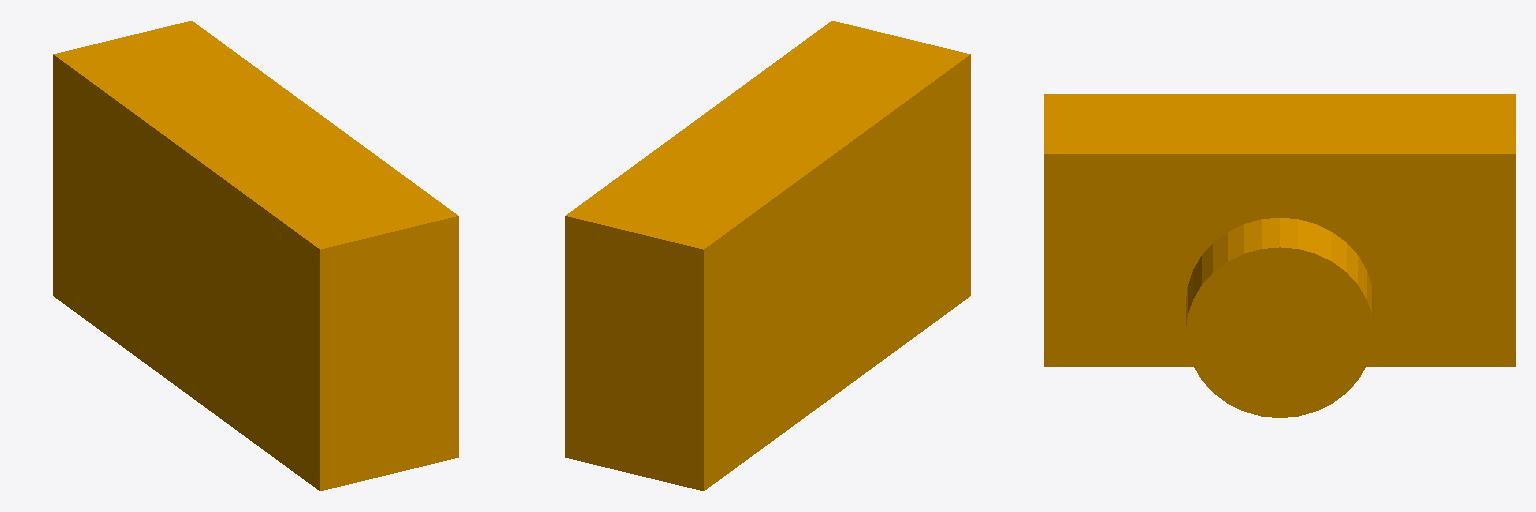
The robot description file, URDF, robot "ur10":
<?xml version="1.0" encoding="utf-8"?>
<!-- =================================================================================== -->
<!-- |    This document was autogenerated by xacro from ur10_robot.urdf.xacro          | -->
<!-- |    EDITING THIS FILE BY HAND IS NOT RECOMMENDED                                 | -->
<!-- =================================================================================== -->
<robot name="ur10">
  <gazebo>
    <plugin filename="libgazebo_ros_control.so" name="gazebo_ros_control">
      <robotNamespace>/ur10</robotNamespace>
      <!--robotSimType>gazebo_ros_control/DefaultRobotHWSim</robotSimType-->
    </plugin>
    <!--
    <plugin name="gazebo_ros_power_monitor_controller" filename="libgazebo_ros_power_monitor.so">
      <alwaysOn>true</alwaysOn>
      <updateRate>1.0</updateRate>
      <timeout>5</timeout>
      <powerStateTopic>power_state</powerStateTopic>
      <powerStateRate>10.0</powerStateRate>
      <fullChargeCapacity>87.78</fullChargeCapacity>
      <dischargeRate>-474</dischargeRate>
      <chargeRate>525</chargeRate>
      <dischargeVoltage>15.52</dischargeVoltage>
      <chargeVoltage>16.41</chargeVoltage>
    </plugin>
-->
  </gazebo>
  <!--
  Author: [author]
  Contributers: [author], [author], [author]
-->
  <!-- measured from model -->
  <link name="base_link">
    <visual>
      <geometry>
        <mesh filename="package://ur10_description/meshes/ur10/visual/Base.dae"/>
      </geometry>
      <material name="LightGrey">
        <color rgba="0.7 0.7 0.7 1.0"/>
      </material>
    </visual>
    <collision>
      <geometry>
        <mesh filename="package://ur10_description/meshes/ur10/collision/base.stl"/>
      </geometry>
    </collision>
    <inertial>
      <mass value="4.0"/>
      <origin rpy="0 0 0" xyz="0.0 0.0 0.0"/>
      <inertia ixx="0.0061063308908" ixy="0.0" ixz="0.0" iyy="0.0061063308908" iyz="0.0" izz="0.01125"/>
    </inertial>
  </link>
  <joint name="shoulder_pan_joint" type="revolute">
    <parent link="base_link"/>
    <child link="shoulder_link"/>
    <origin rpy="0.0 0.0 0.0" xyz="0.0 0.0 0.1273"/>
    <axis xyz="0 0 1"/>
    <limit effort="330.0" lower="-6.2831853" upper="6.2831853" velocity="2.16"/>
    <dynamics damping="0.0" friction="0.0"/>
  </joint>
  <link name="shoulder_link">
    <visual>
      <geometry>
        <mesh filename="package://ur10_description/meshes/ur10/visual/Shoulder.dae"/>
      </geometry>
      <material name="LightGrey">
        <color rgba="0.7 0.7 0.7 1.0"/>
      </material>
    </visual>
    <collision>
      <geometry>
        <mesh filename="package://ur10_description/meshes/ur10/collision/shoulder.stl"/>
      </geometry>
    </collision>
    <inertial>
      <mass value="7.778"/>
      <origin rpy="0 0 0" xyz="0.0 0.0 0.0"/>
      <inertia ixx="0.0314743125769" ixy="0.0" ixz="0.0" iyy="0.0314743125769" iyz="0.0" izz="0.021875625"/>
    </inertial>
  </link>
  <joint name="shoulder_lift_joint" type="revolute">
    <parent link="shoulder_link"/>
    <child link="upper_arm_link"/>
    <origin rpy="0.0 1.570796325 0.0" xyz="0.0 0.220941 0.0"/>
    <axis xyz="0 1 0"/>
    <limit effort="330.0" lower="-6.2831853" upper="6.2831853" velocity="2.16"/>
    <dynamics damping="0.0" friction="0.0"/>
  </joint>
  <link name="upper_arm_link">
    <visual>
      <geometry>
        <mesh filename="package://ur10_description/meshes/ur10/visual/UpperArm.dae"/>
      </geometry>
      <material name="LightGrey">
        <color rgba="0.7 0.7 0.7 1.0"/>
      </material>
    </visual>
    <collision>
      <geometry>
        <mesh filename="package://ur10_description/meshes/ur10/collision/upper_arm.stl"/>
      </geometry>
    </collision>
    <inertial>
      <mass value="12.93"/>
      <origin rpy="0 0 0" xyz="0.0 0.0 0.306"/>
      <inertia ixx="0.421753803798" ixy="0.0" ixz="0.0" iyy="0.421753803798" iyz="0.0" izz="0.036365625"/>
    </inertial>
  </link>
  <joint name="elbow_joint" type="revolute">
    <parent link="upper_arm_link"/>
    <child link="forearm_link"/>
    <origin rpy="0.0 0.0 0.0" xyz="0.0 -0.1719 0.612"/>
    <axis xyz="0 1 0"/>
    <limit effort="150.0" lower="-6.2831853" upper="6.2831853" velocity="3.15"/>
    <dynamics damping="0.0" friction="0.0"/>
  </joint>
  <link name="forearm_link">
    <visual>
      <geometry>
        <mesh filename="package://ur10_description/meshes/ur10/visual/Forearm.dae"/>
      </geometry>
      <material name="LightGrey">
        <color rgba="0.7 0.7 0.7 1.0"/>
      </material>
    </visual>
    <collision>
      <geometry>
        <mesh filename="package://ur10_description/meshes/ur10/collision/forearm.stl"/>
      </geometry>
    </collision>
    <inertial>
      <mass value="3.87"/>
      <origin rpy="0 0 0" xyz="0.0 0.0 0.28615"/>
      <inertia ixx="0.111069694097" ixy="0.0" ixz="0.0" iyy="0.111069694097" iyz="0.0" izz="0.010884375"/>
    </inertial>
  </link>
  <joint name="wrist_1_joint" type="revolute">
    <parent link="forearm_link"/>
    <child link="wrist_1_link"/>
    <origin rpy="0.0 1.570796325 0.0" xyz="0.0 0.0 0.5723"/>
    <axis xyz="0 1 0"/>
    <limit effort="54.0" lower="-6.2831853" upper="6.2831853" velocity="3.2"/>
    <dynamics damping="0.0" friction="0.0"/>
  </joint>
  <link name="wrist_1_link">
    <visual>
      <geometry>
        <mesh filename="package://ur10_description/meshes/ur10/visual/Wrist1.dae"/>
      </geometry>
      <material name="LightGrey">
        <color rgba="0.7 0.7 0.7 1.0"/>
      </material>
    </visual>
    <collision>
      <geometry>
        <mesh filename="package://ur10_description/meshes/ur10/collision/wrist_1.stl"/>
      </geometry>
    </collision>
    <inertial>
      <mass value="1.96"/>
      <origin rpy="0 0 0" xyz="0.0 0.0 0.0"/>
      <inertia ixx="0.0051082479567" ixy="0.0" ixz="0.0" iyy="0.0051082479567" iyz="0.0" izz="0.0055125"/>
    </inertial>
  </link>
  <joint name="wrist_2_joint" type="revolute">
    <parent link="wrist_1_link"/>
    <child link="wrist_2_link"/>
    <origin rpy="0.0 0.0 0.0" xyz="0.0 0.1149 0.0"/>
    <axis xyz="0 0 1"/>
    <limit effort="54.0" lower="-6.2831853" upper="6.2831853" velocity="3.2"/>
    <dynamics damping="0.0" friction="0.0"/>
  </joint>
  <link name="wrist_2_link">
    <visual>
      <geometry>
        <mesh filename="package://ur10_description/meshes/ur10/visual/Wrist2.dae"/>
      </geometry>
      <material name="LightGrey">
        <color rgba="0.7 0.7 0.7 1.0"/>
      </material>
    </visual>
    <collision>
      <geometry>
        <mesh filename="package://ur10_description/meshes/ur10/collision/wrist_2.stl"/>
      </geometry>
    </collision>
    <inertial>
      <mass value="1.96"/>
      <origin rpy="0 0 0" xyz="0.0 0.0 0.0"/>
      <inertia ixx="0.0051082479567" ixy="0.0" ixz="0.0" iyy="0.0051082479567" iyz="0.0" izz="0.0055125"/>
    </inertial>
  </link>
  <joint name="wrist_3_joint" type="revolute">
    <parent link="wrist_2_link"/>
    <child link="wrist_3_link"/>
    <origin rpy="0.0 0.0 0.0" xyz="0.0 0.0 0.1157"/>
    <axis xyz="0 1 0"/>
    <limit effort="54.0" lower="-6.2831853" upper="6.2831853" velocity="3.2"/>
    <dynamics damping="0.0" friction="0.0"/>
  </joint>
  <link name="wrist_3_link">
    <visual>
      <geometry>
        <mesh filename="package://ur10_description/meshes/ur10/visual/Wrist3.dae"/>
      </geometry>
      <material name="LightGrey">
        <color rgba="0.7 0.7 0.7 1.0"/>
      </material>
    </visual>
    <collision>
      <geometry>
        <mesh filename="package://ur10_description/meshes/ur10/collision/wrist_3.stl"/>
      </geometry>
    </collision>
    <inertial>
      <mass value="0.202"/>
      <origin rpy="0 0 0" xyz="0.0 0.0 0.0"/>
      <inertia ixx="0.000526462289415" ixy="0.0" ixz="0.0" iyy="0.000526462289415" iyz="0.0" izz="0.000568125"/>
    </inertial>
  </link>
  <joint name="ee_fixed_joint" type="fixed">
    <parent link="wrist_3_link"/>
    <child link="ee_link"/>
    <origin rpy="0.0 0.0 1.570796325" xyz="0.0 0.0922 0.0"/>
  </joint>

  <!-- camera stuff /-->
  <link name="ee_link">
    <collision>
      <geometry>
        <box size="0.01 0.01 0.01"/>
      </geometry>
      <origin rpy="0 0 0" xyz="-0.01 0 0"/>
    </collision>
  </link>
  <link name="camera_link">
    <!--<pose> 0 0 0 0 0 0 </pose> !-->
    <inertial>
      <origin rpy="0 0 0" xyz="0.0 0.0 0.05"/>
      <mass value="1"/>
      <inertia ixx="1.0" ixy="0.0" ixz="0.0" iyy="1.0" iyz="0.0" izz="1.0"/>
    </inertial>
    <collision name="collisionBox">
      <origin rpy="0 0 0" xyz="0.0 0.0 0.0"/>
      <geometry>
        <box size="0.1 0.03 0.05"/>
      </geometry>
    </collision>
    <visual name="visualBox">
      <origin rpy="0 0 0" xyz="0.0 0.0 0.0"/>
      <geometry>
        <box size="0.1 0.03 0.05"/>
      </geometry>
    </visual>
    <collision name="collisionLense">
      <origin rpy="1.5707963 0 0" xyz="0.0 0.02 0.01"/>
      <geometry>
        <cylinder length="0.02" radius="0.02"/>
      </geometry>
    </collision>
    <visual name="visualLense">
      <origin rpy="1.5707963 0 0" xyz="0.0 0.02 0.01"/>
      <geometry>
        <cylinder length="0.02" radius="0.02"/>
      </geometry>
    </visual>
  </link>
  <joint name="camera_joint" type="fixed">
    <parent link="wrist_1_link"/>
    <child link="camera_link"/>
    <origin rpy="0.0 0.0 1.570796325" xyz="-0.08 0.0922 0"/>
  </joint>
  <gazebo reference="camera_link">
    <sensor name="Camera Sensor" type="camera">
      <origin rpy="0 0 0" xyz="0 0 0"/>
      <update_rate>50</update_rate>
      <always_on>true</always_on>
      <visualize>true</visualize>
      <camera>
        <horizontal_fov>1.047</horizontal_fov>
        <image>
          <height>786</height>
          <width>786</width>
        </image>
        <!--<save enabled=True>
					<path>"[local-path]"</path>
				</save>-->
        <noise>
          <type>gaussian</type>
          <mean>0.0</mean>
          <stddev>0.01</stddev>
        </noise>
        <clip>
          <near>0.1</near>
          <far>100</far>
        </clip>
        <distortion>
          <k1>-0.25</k1>
          <k2>0.12</k2>
          <k3>0.0</k3>
          <p1>-0.00028</p1>
          <p2>-0.00005</p2>
          <center>0.5 0.5</center>
        </distortion>
      </camera>
    </sensor>
  </gazebo>


  <transmission name="shoulder_pan_trans">
    <type>transmission_interface/SimpleTransmission</type>
    <joint name="shoulder_pan_joint">
      <hardwareInterface>hardware_interface/EffortJointInterface</hardwareInterface>
    </joint>
    <actuator name="shoulder_pan_motor">
      <hardwareInterface>hardware_interface/EffortJointInterface</hardwareInterface>
      <mechanicalReduction>1</mechanicalReduction>
    </actuator>
  </transmission>
  <transmission name="shoulder_lift_trans">
    <type>transmission_interface/SimpleTransmission</type>
    <joint name="shoulder_lift_joint">
      <hardwareInterface>hardware_interface/EffortJointInterface</hardwareInterface>
    </joint>
    <actuator name="shoulder_lift_motor">
      <hardwareInterface>hardware_interface/EffortJointInterface</hardwareInterface>
      <mechanicalReduction>1</mechanicalReduction>
    </actuator>
  </transmission>
  <transmission name="elbow_trans">
    <type>transmission_interface/SimpleTransmission</type>
    <joint name="elbow_joint">
      <hardwareInterface>hardware_interface/EffortJointInterface</hardwareInterface>
    </joint>
    <actuator name="elbow_motor">
      <hardwareInterface>hardware_interface/EffortJointInterface</hardwareInterface>
      <mechanicalReduction>1</mechanicalReduction>
    </actuator>
  </transmission>
  <transmission name="wrist_1_trans">
    <type>transmission_interface/SimpleTransmission</type>
    <joint name="wrist_1_joint">
      <hardwareInterface>hardware_interface/EffortJointInterface</hardwareInterface>
    </joint>
    <actuator name="wrist_1_motor">
      <hardwareInterface>hardware_interface/EffortJointInterface</hardwareInterface>
      <mechanicalReduction>1</mechanicalReduction>
    </actuator>
  </transmission>
  <transmission name="wrist_2_trans">
    <type>transmission_interface/SimpleTransmission</type>
    <joint name="wrist_2_joint">
      <hardwareInterface>hardware_interface/EffortJointInterface</hardwareInterface>
    </joint>
    <actuator name="wrist_2_motor">
      <hardwareInterface>hardware_interface/EffortJointInterface</hardwareInterface>
      <mechanicalReduction>1</mechanicalReduction>
    </actuator>
  </transmission>
  <transmission name="wrist_3_trans">
    <type>transmission_interface/SimpleTransmission</type>
    <joint name="wrist_3_joint">
      <hardwareInterface>hardware_interface/EffortJointInterface</hardwareInterface>
    </joint>
    <actuator name="wrist_3_motor">
      <hardwareInterface>hardware_interface/EffortJointInterface</hardwareInterface>
      <mechanicalReduction>1</mechanicalReduction>
    </actuator>
  </transmission>

  
  <!-- nothing to do here at the moment -->
  <!-- ROS base_link to UR 'Base' Coordinates transform -->
  <link name="base"/>
  <joint name="base_link-base_fixed_joint" type="fixed">
    <!-- NOTE: this rotation is only needed as long as base_link itself is
    not corrected wrt the real robot (ie: rotated over 180
    degrees)
    -->
    <origin rpy="0 0 -3.14159265" xyz="0 0 0"/>
    <parent link="base_link"/>
    <child link="base"/>
  </joint>
  <!-- Frame coincident with all-zeros TCP on UR controller -->
  <link name="tool0"/>
  <joint name="wrist_3_link-tool0_fixed_joint" type="fixed">
    <origin rpy="-1.570796325 0 0" xyz="0 0.0922 0"/>
    <parent link="wrist_3_link"/>
    <child link="tool0"/>
  </joint>
  <link name="world"/>
  <joint name="world_joint" type="fixed">
    <parent link="world"/>
    <child link="base_link"/>
    <origin rpy="0.0 0.0 0.0" xyz="0.0 0.0 0.0"/>
  </joint>
</robot>

--- Render facts (derived) ---
The picture shows the robot from 3 angles, left to right: view 1: azimuth 30°, elevation 25°; view 2: azimuth 150°, elevation 25°; view 3: azimuth 270°, elevation 25°; orthographic projection.
Robot: ur10 — 12 links, 11 joints (6 revolute, 5 fixed); root link world; default pose: every joint at zero.
Links seen in each view (by area): view 1: camera_link; view 2: camera_link; view 3: camera_link.
Link boxes in pixels (x1=…): camera_link: x1=53, y1=21, x2=458, y2=490; camera_link: x1=565, y1=21, x2=970, y2=490; camera_link: x1=1044, y1=94, x2=1515, y2=417.
Bounding box of the posed robot: 0.045 × 0.1 × 0.055 m (x, y, z).
Meshes: 7 distinct files referenced, 0 mesh visuals loaded (none loaded); not drawn: 7 (reference not matched to a file when rendering).